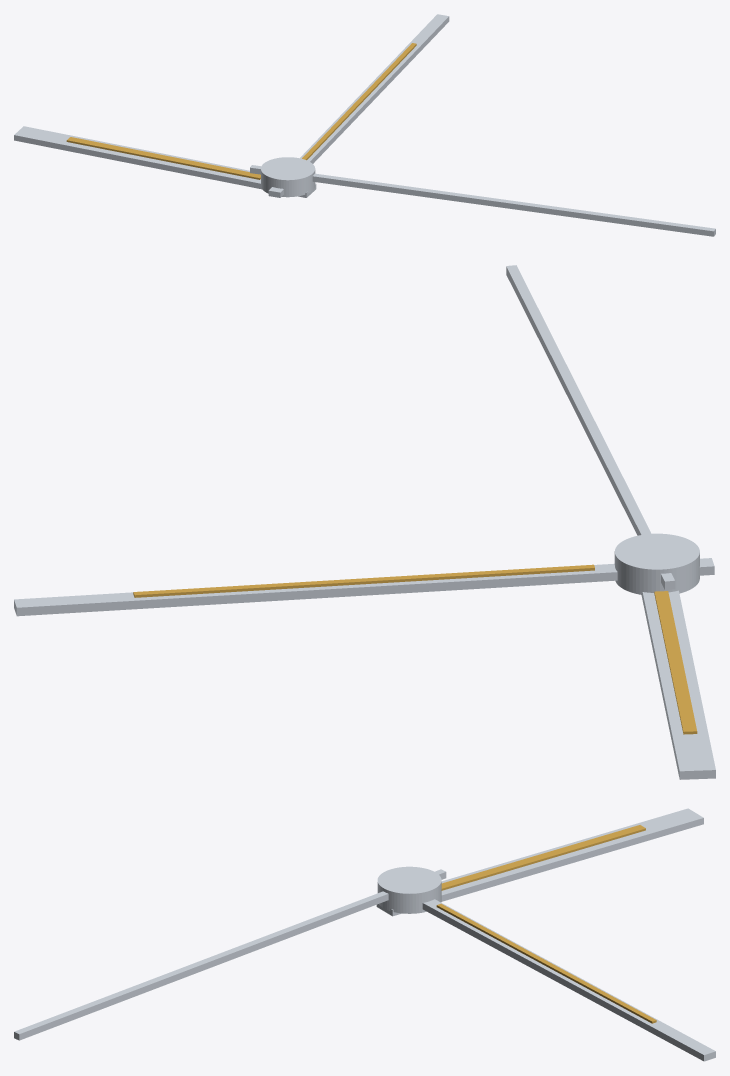
Rendered from hands-chronograph.glb.
The picture shows the model from 3 angles, top to bottom: view 1: azimuth 30°, elevation 25°; view 2: azimuth 150°, elevation 25°; view 3: azimuth 270°, elevation 25°; orthographic projection. The views are drawn at different scales.
Visible parts, largest first — view 1: DD_ARCH_HAND_2, DD_ARCH_HAND_0, DD_ARCH_HAND_1, DD_ARCH_HAND_HUB, DD_ARCH_HAND_LUME_0, DD_ARCH_HAND_LUME_1; view 2: DD_ARCH_HAND_1, DD_ARCH_HAND_0, DD_ARCH_HAND_2, DD_ARCH_HAND_HUB, DD_ARCH_HAND_LUME_1, DD_ARCH_HAND_LUME_0; view 3: DD_ARCH_HAND_2, DD_ARCH_HAND_0, DD_ARCH_HAND_1, DD_ARCH_HAND_HUB, DD_ARCH_HAND_LUME_0, DD_ARCH_HAND_LUME_1.
Boxes of the visible parts, <box> form: DD_ARCH_HAND_2: <box>250,165,715,236</box>; DD_ARCH_HAND_0: <box>14,126,316,197</box>; DD_ARCH_HAND_1: <box>268,14,449,197</box>; DD_ARCH_HAND_HUB: <box>261,157,315,197</box>; DD_ARCH_HAND_LUME_0: <box>66,137,260,179</box>; DD_ARCH_HAND_LUME_1: <box>302,43,416,160</box>; DD_ARCH_HAND_1: <box>14,558,714,616</box>; DD_ARCH_HAND_0: <box>641,590,715,779</box>; DD_ARCH_HAND_2: <box>506,265,675,589</box>; DD_ARCH_HAND_HUB: <box>614,533,699,594</box>; DD_ARCH_HAND_LUME_1: <box>133,564,594,597</box>; DD_ARCH_HAND_LUME_0: <box>654,591,697,734</box>; DD_ARCH_HAND_2: <box>14,869,446,1040</box>; DD_ARCH_HAND_0: <box>376,808,703,916</box>; DD_ARCH_HAND_1: <box>422,899,715,1061</box>; DD_ARCH_HAND_HUB: <box>377,866,441,913</box>; DD_ARCH_HAND_LUME_0: <box>441,825,645,890</box>; DD_ARCH_HAND_LUME_1: <box>436,903,656,1023</box>.
Bounding box in the file's own units: 13.6 × 0.6 × 15.88.
